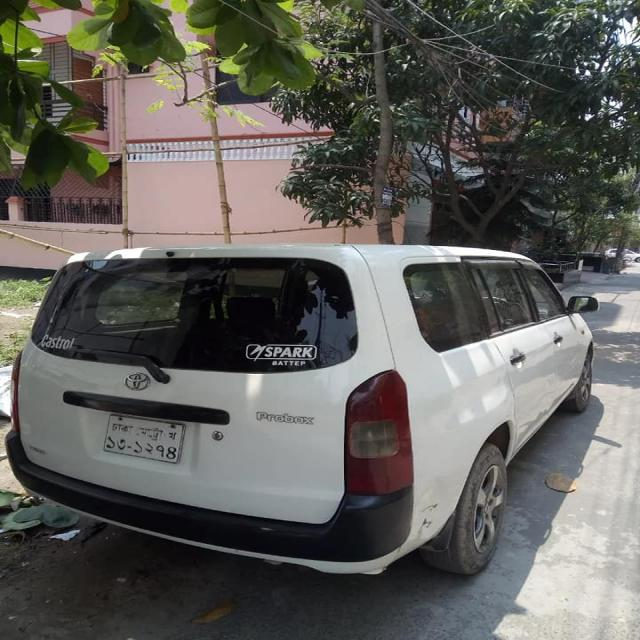car: (11, 224, 625, 578)
